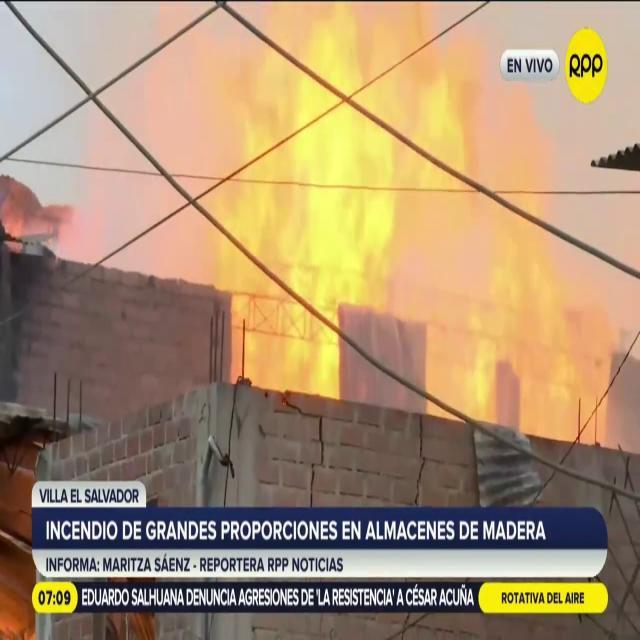Fire: (178, 2, 640, 410)
